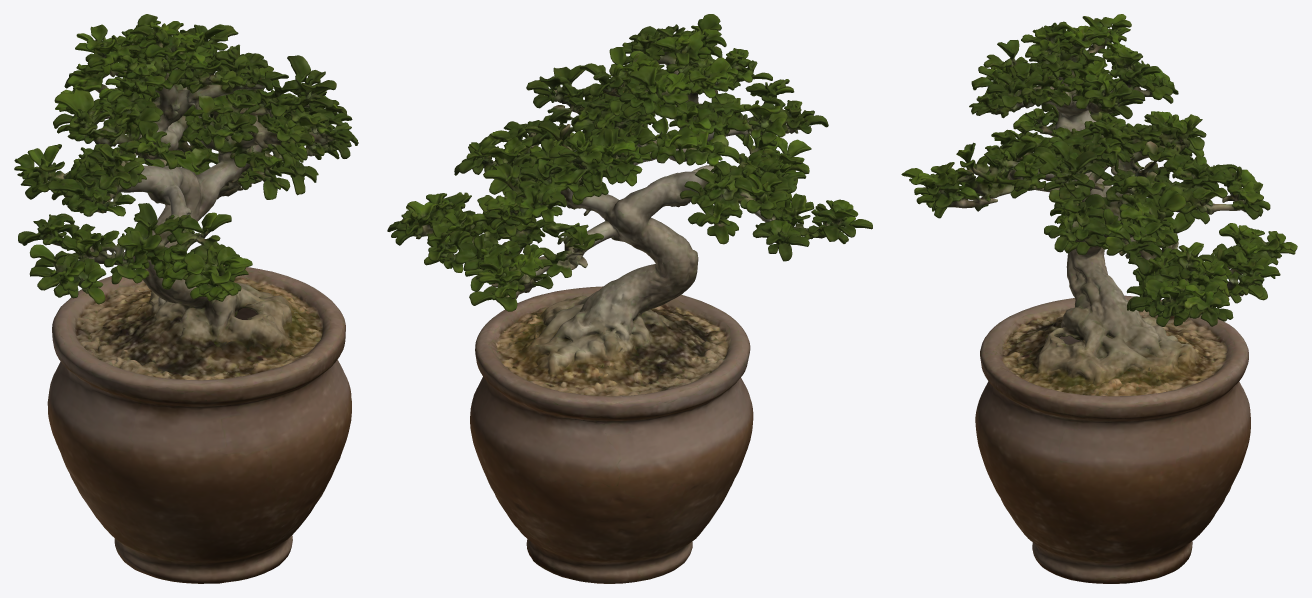
File: bonzai-high.glb
3 renders of one model, left to right at view 1: azimuth 30°, elevation 25°; view 2: azimuth 150°, elevation 25°; view 3: azimuth 270°, elevation 25°, orthographic. The views are drawn at different scales.
Size of the model in its own units: 0.7644 by 0.9961 by 0.7162.
1 material, 1 textured.
